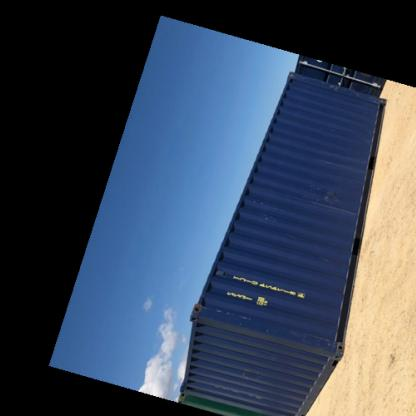Damage: (190, 330, 342, 350)
